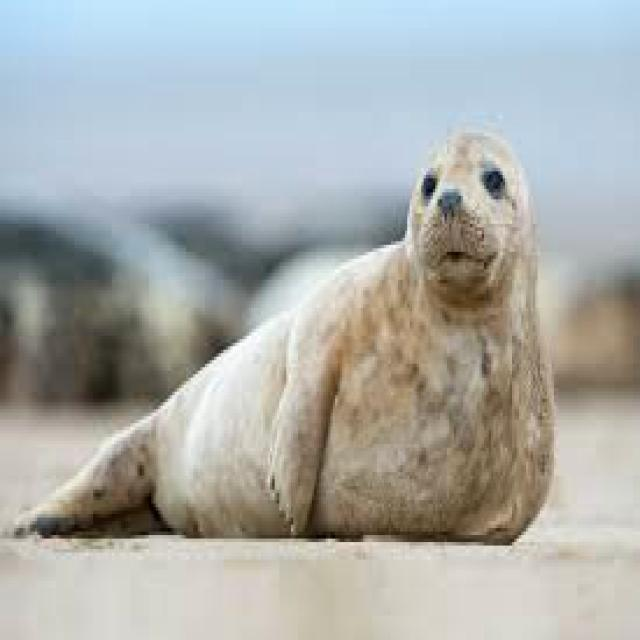seal: (9, 129, 552, 535)
